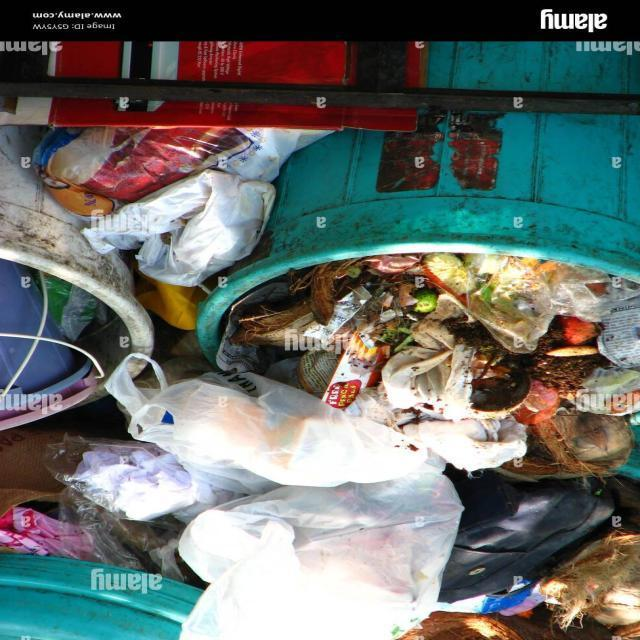Garbage: (0, 253, 640, 640)
Plastic: (439, 473, 613, 602)
Plastic_Bag: (180, 457, 464, 640), (107, 360, 428, 486)
Plastic_wraper: (296, 336, 391, 409), (597, 298, 640, 368)
